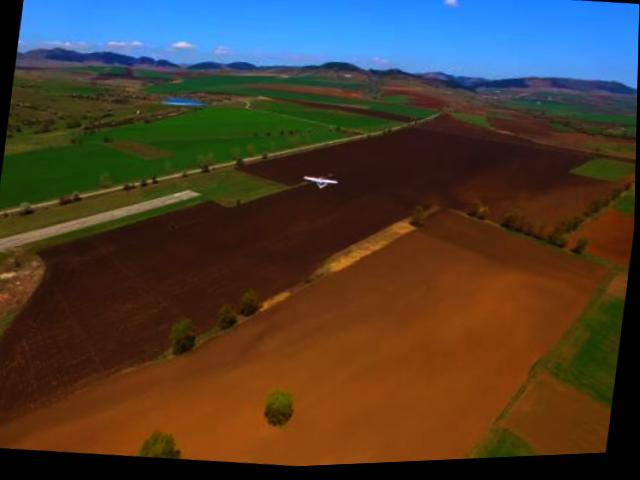uav: (299, 167, 346, 201)
